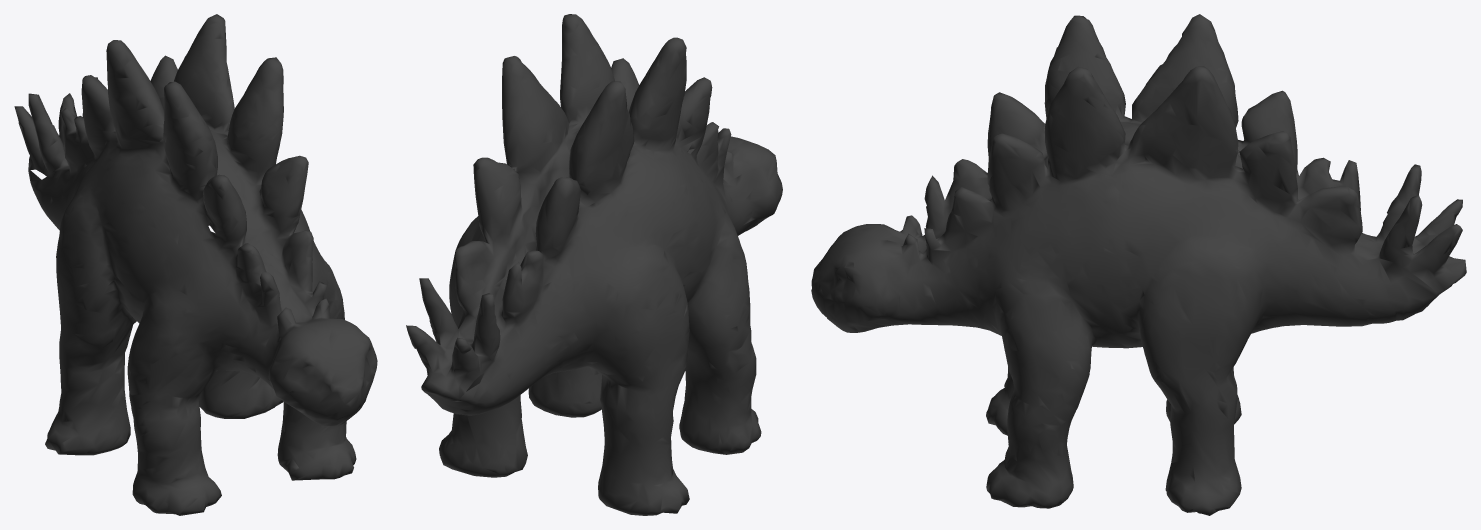
File: stegosaurus.glb
3 renders of one model, left to right at view 1: azimuth 30°, elevation 25°; view 2: azimuth 150°, elevation 25°; view 3: azimuth 270°, elevation 25°, orthographic. The views are drawn at different scales.
Visible parts, largest first — view 1: geometry_0; view 2: geometry_0; view 3: geometry_0.
Part boxes in pixels (x1,y1,x2,y2): geometry_0: [14, 14, 377, 515]; geometry_0: [406, 14, 782, 515]; geometry_0: [811, 14, 1466, 515].
Size of the model in its own units: 0.4279 by 0.7023 by 1.
Materials: 1 (1 with a texture image).
